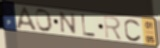A: (15, 6, 40, 33)
C: (123, 18, 143, 43)
L: (81, 13, 97, 38)
N: (59, 11, 78, 35)
O: (35, 8, 55, 33)
R: (103, 15, 124, 41)
